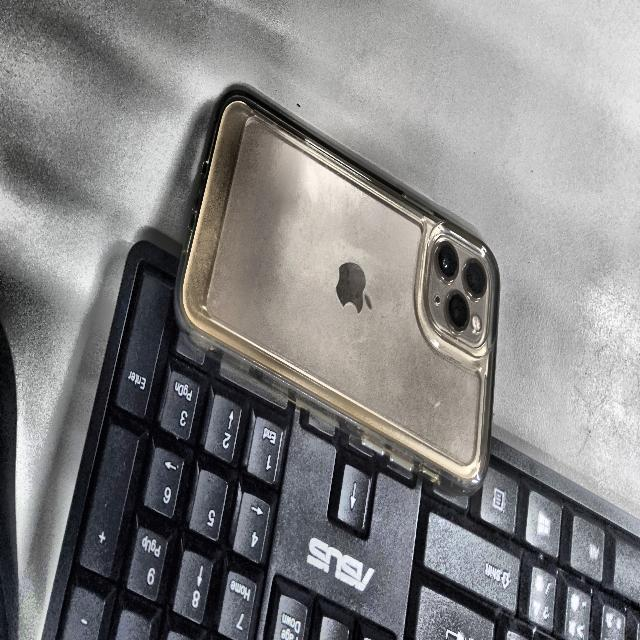Keyboard: (42, 241, 640, 640)
PHONE: (178, 94, 499, 493)
